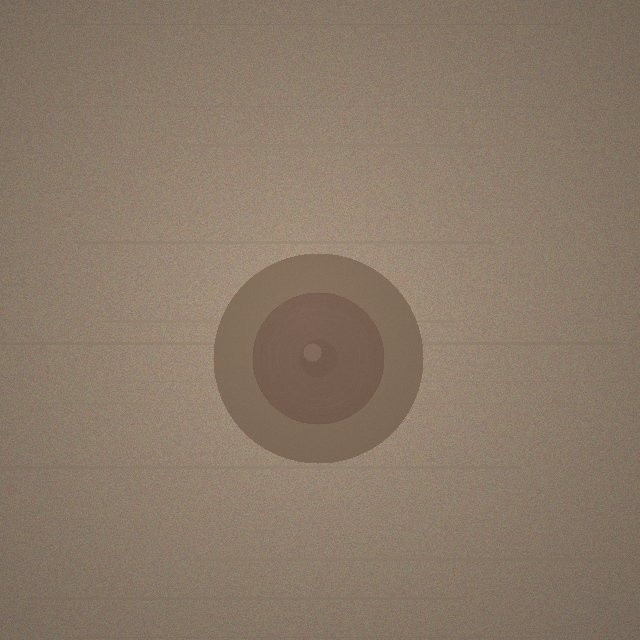good: (213, 253, 423, 463)
